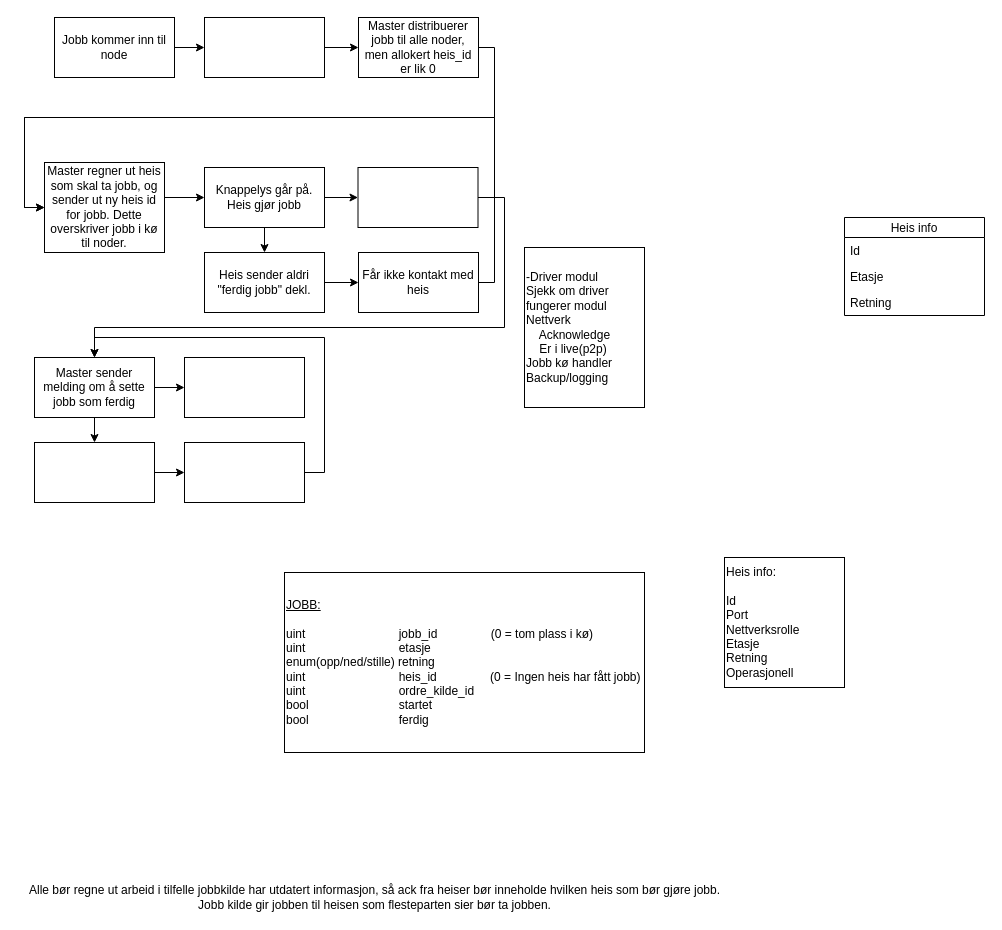
Some shapes in this 1002 by 930 pixel diagram are drawn without their labels. The shapes that lost their labels are listed below. From the top down, each one's centre as x and y in pixels, then its label:
the point at 264,47: Jobb sendes til master
the point at 417,197: Heis deklarer at jobb er ferdig
the point at 244,387: Noder setter jobb ferdig
the point at 94,472: Node får ikke melding, og ser at den har en uferdig jobb.
the point at 244,472: Sender melding om jobb til master etter en gitt tid.
